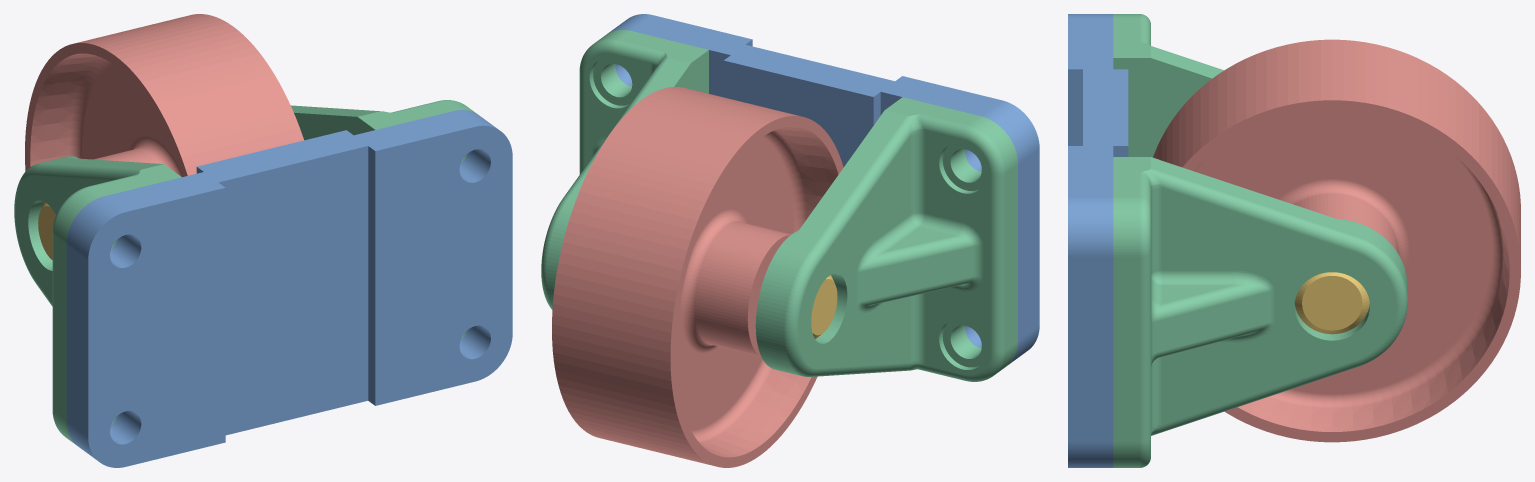
File: WHEEL ASSEMBLY.glb
The picture shows the model from 3 angles, left to right: view 1: azimuth 30°, elevation 25°; view 2: azimuth 150°, elevation 25°; view 3: azimuth 270°, elevation 25°; orthographic projection. The views are drawn at different scales.
Visible parts, largest first — view 1: BASE_PLATE_0, WHEEL_4, BRACKET_2, BRACKET_1, AXLE_3; view 2: WHEEL_4, BRACKET_2, BASE_PLATE_0, BRACKET_1, AXLE_3; view 3: WHEEL_4, BRACKET_1, BASE_PLATE_0, BRACKET_2, AXLE_3.
Part boxes in pixels (x1,y1,x2,y2): BASE_PLATE_0: (66, 110, 512, 467); WHEEL_4: (25, 14, 303, 177); BRACKET_2: (14, 156, 181, 444); BRACKET_1: (290, 100, 476, 338); AXLE_3: (38, 202, 55, 259); WHEEL_4: (552, 87, 843, 467); BRACKET_2: (755, 97, 1017, 381); BASE_PLATE_0: (607, 14, 1039, 364); BRACKET_1: (541, 30, 708, 309); AXLE_3: (811, 275, 837, 338); WHEEL_4: (1153, 39, 1520, 442); BRACKET_1: (1113, 157, 1407, 467); BASE_PLATE_0: (1068, 14, 1128, 467); BRACKET_2: (1113, 14, 1223, 157); AXLE_3: (1294, 272, 1369, 334).
Size of the model in its own units: 136 by 100 by 120.
